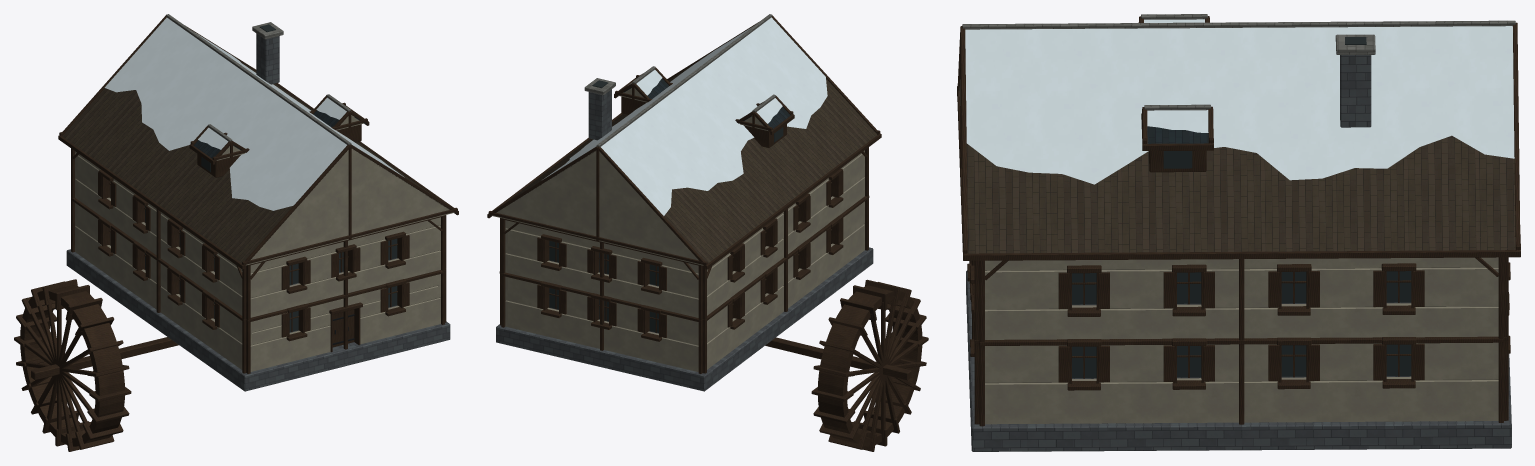
File: mill.glb
3 renders of one model, left to right at view 1: azimuth 30°, elevation 25°; view 2: azimuth 150°, elevation 25°; view 3: azimuth 270°, elevation 25°, orthographic. The views are drawn at different scales.
Visible parts, largest first — view 1: ENV_R5_Plaster, ENV_R5_Timber, ENV_R5_Snow, ENV_R5_Shingle, ENV_R5_Stone, ENV_R5_Trim, ENV_R5_Dark, ENV_R5_Slate; view 2: ENV_R5_Plaster, ENV_R5_Timber, ENV_R5_Snow, ENV_R5_Shingle, ENV_R5_Stone, ENV_R5_Trim, ENV_R5_Dark, ENV_R5_Slate; view 3: ENV_R5_Snow, ENV_R5_Plaster, ENV_R5_Shingle, ENV_R5_Timber, ENV_R5_Stone, ENV_R5_Dark, ENV_R5_Trim, ENV_R5_Slate.
Boxes of the visible parts, x1,y1,x2,y2 form: ENV_R5_Plaster: (75,115,454,371); ENV_R5_Timber: (14,15,458,451); ENV_R5_Snow: (104,17,404,210); ENV_R5_Shingle: (62,62,456,263); ENV_R5_Stone: (66,33,450,391); ENV_R5_Trim: (166,14,351,144); ENV_R5_Dark: (110,24,397,331); ENV_R5_Slate: (193,110,366,158); ENV_R5_Plaster: (491,88,864,371); ENV_R5_Timber: (487,15,928,451); ENV_R5_Snow: (542,17,827,215); ENV_R5_Shingle: (490,64,877,263); ENV_R5_Stone: (496,89,873,391); ENV_R5_Trim: (584,14,775,146); ENV_R5_Dark: (549,80,783,332); ENV_R5_Slate: (616,78,790,128); ENV_R5_Snow: (965,19,1514,184); ENV_R5_Plaster: (959,80,1498,424); ENV_R5_Shingle: (960,79,1515,253); ENV_R5_Timber: (957,16,1520,426); ENV_R5_Stone: (966,55,1511,451); ENV_R5_Dark: (1072,37,1411,377); ENV_R5_Trim: (962,14,1515,110); ENV_R5_Slate: (1147,126,1208,143).
Size of the model in its own units: 25.4 by 23.72 by 23.64.
9 materials, 8 textured.
